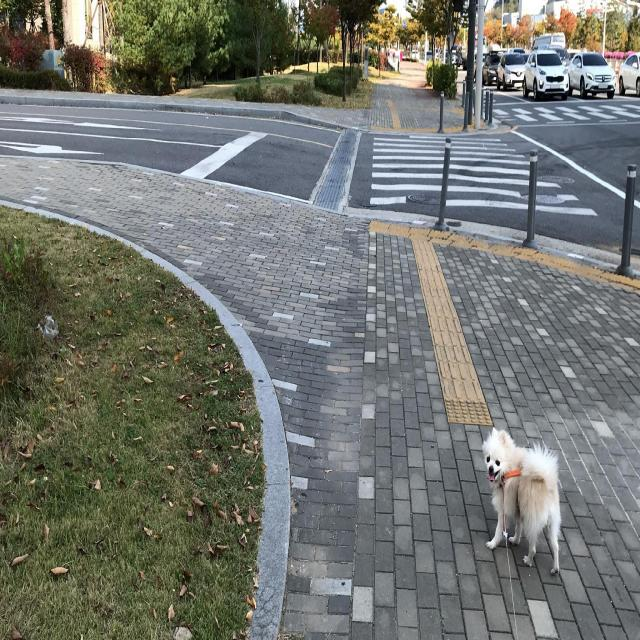횡단보도: (369, 132, 599, 218), (489, 99, 640, 123)
